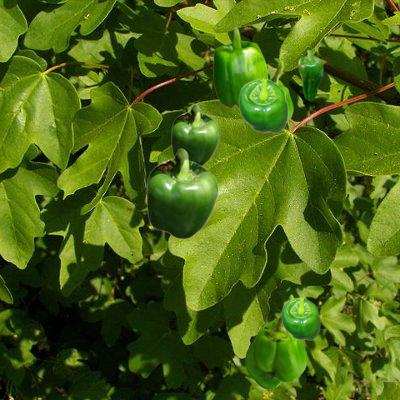bell_pepper: (146, 148, 217, 238), (245, 294, 306, 388), (213, 27, 267, 108), (171, 104, 219, 165), (238, 78, 287, 132), (281, 297, 319, 339), (269, 60, 292, 121), (298, 50, 322, 100)
